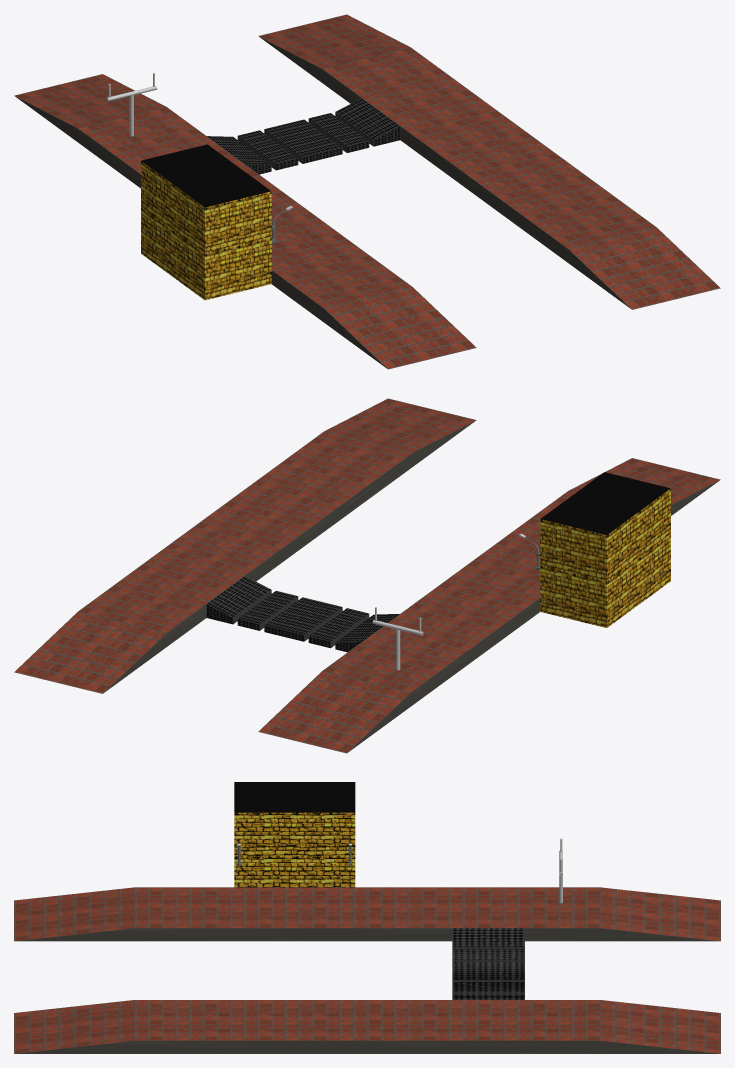
The model's file is stazione2.obj.
The picture shows the model from 3 angles, top to bottom: view 1: azimuth 30°, elevation 25°; view 2: azimuth 150°, elevation 25°; view 3: azimuth 270°, elevation 25°; orthographic projection. The views are drawn at different scales.
Visible parts, largest first — view 1: Cube.014_Cube.018, Cube.001_Cube.002, Cube_Cube.004, Cube.005_Cube.009, Cube.004_Cube.008, Cube.003_Cube.014, Cube.007_Cube.011, Cube.008_Cube.012; view 2: Cube.014_Cube.018, Cube.001_Cube.002, Cube_Cube.004, Cube.005_Cube.009, Cube.004_Cube.008, Cube.007_Cube.011, Cube.003_Cube.014, Cube.008_Cube.012; view 3: Cube.014_Cube.018, Cube.001_Cube.002, Cube_Cube.004, Cube.008_Cube.012, Cube.005_Cube.009, Cube.003_Cube.014, Cube.007_Cube.011.
Boxes of the visible parts, left/top/right/bottom form: Cube.014_Cube.018: left=258, top=14, right=720, bottom=309; Cube.001_Cube.002: left=14, top=74, right=476, bottom=369; Cube_Cube.004: left=141, top=144, right=271, bottom=300; Cube.005_Cube.009: left=264, top=119, right=342, bottom=163; Cube.004_Cube.008: left=335, top=98, right=400, bottom=146; Cube.003_Cube.014: left=237, top=130, right=298, bottom=170; Cube.007_Cube.011: left=308, top=113, right=369, bottom=152; Cube.008_Cube.012: left=207, top=136, right=271, bottom=174; Cube.014_Cube.018: left=14, top=398, right=476, bottom=693; Cube.001_Cube.002: left=258, top=458, right=720, bottom=753; Cube_Cube.004: left=540, top=472, right=670, bottom=627; Cube.005_Cube.009: left=264, top=597, right=342, bottom=641; Cube.004_Cube.008: left=206, top=576, right=271, bottom=624; Cube.007_Cube.011: left=237, top=590, right=298, bottom=630; Cube.003_Cube.014: left=308, top=608, right=369, bottom=648; Cube.008_Cube.012: left=335, top=614, right=399, bottom=652; Cube.014_Cube.018: left=14, top=1000, right=720, bottom=1053; Cube.001_Cube.002: left=14, top=887, right=720, bottom=941; Cube_Cube.004: left=234, top=782, right=355, bottom=887; Cube.008_Cube.012: left=452, top=928, right=524, bottom=949; Cube.005_Cube.009: left=452, top=961, right=524, bottom=981; Cube.003_Cube.014: left=452, top=949, right=524, bottom=961; Cube.007_Cube.011: left=452, top=982, right=524, bottom=994.
Size of the model in its own units: 90 by 20 by 146.
5 materials, 3 textured.
